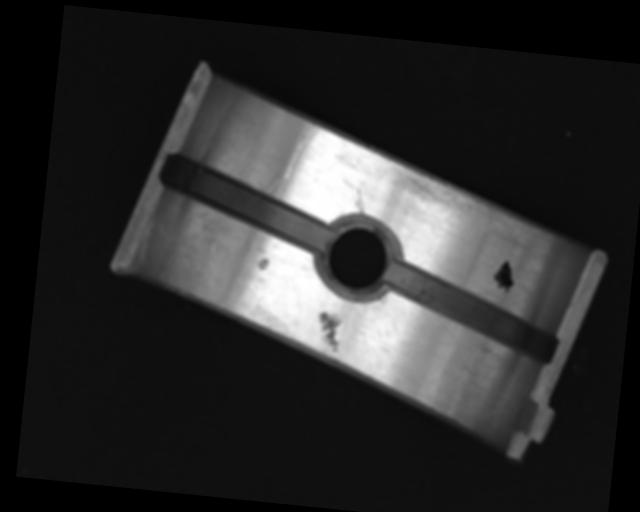blot: (491, 258, 516, 294)
bruise: (312, 310, 342, 353), (255, 254, 269, 272)
gap: (379, 258, 564, 363), (156, 154, 333, 251)
hole: (313, 209, 404, 302)
nick: (282, 120, 321, 182), (352, 188, 367, 217)
scratch: (396, 167, 549, 240)
